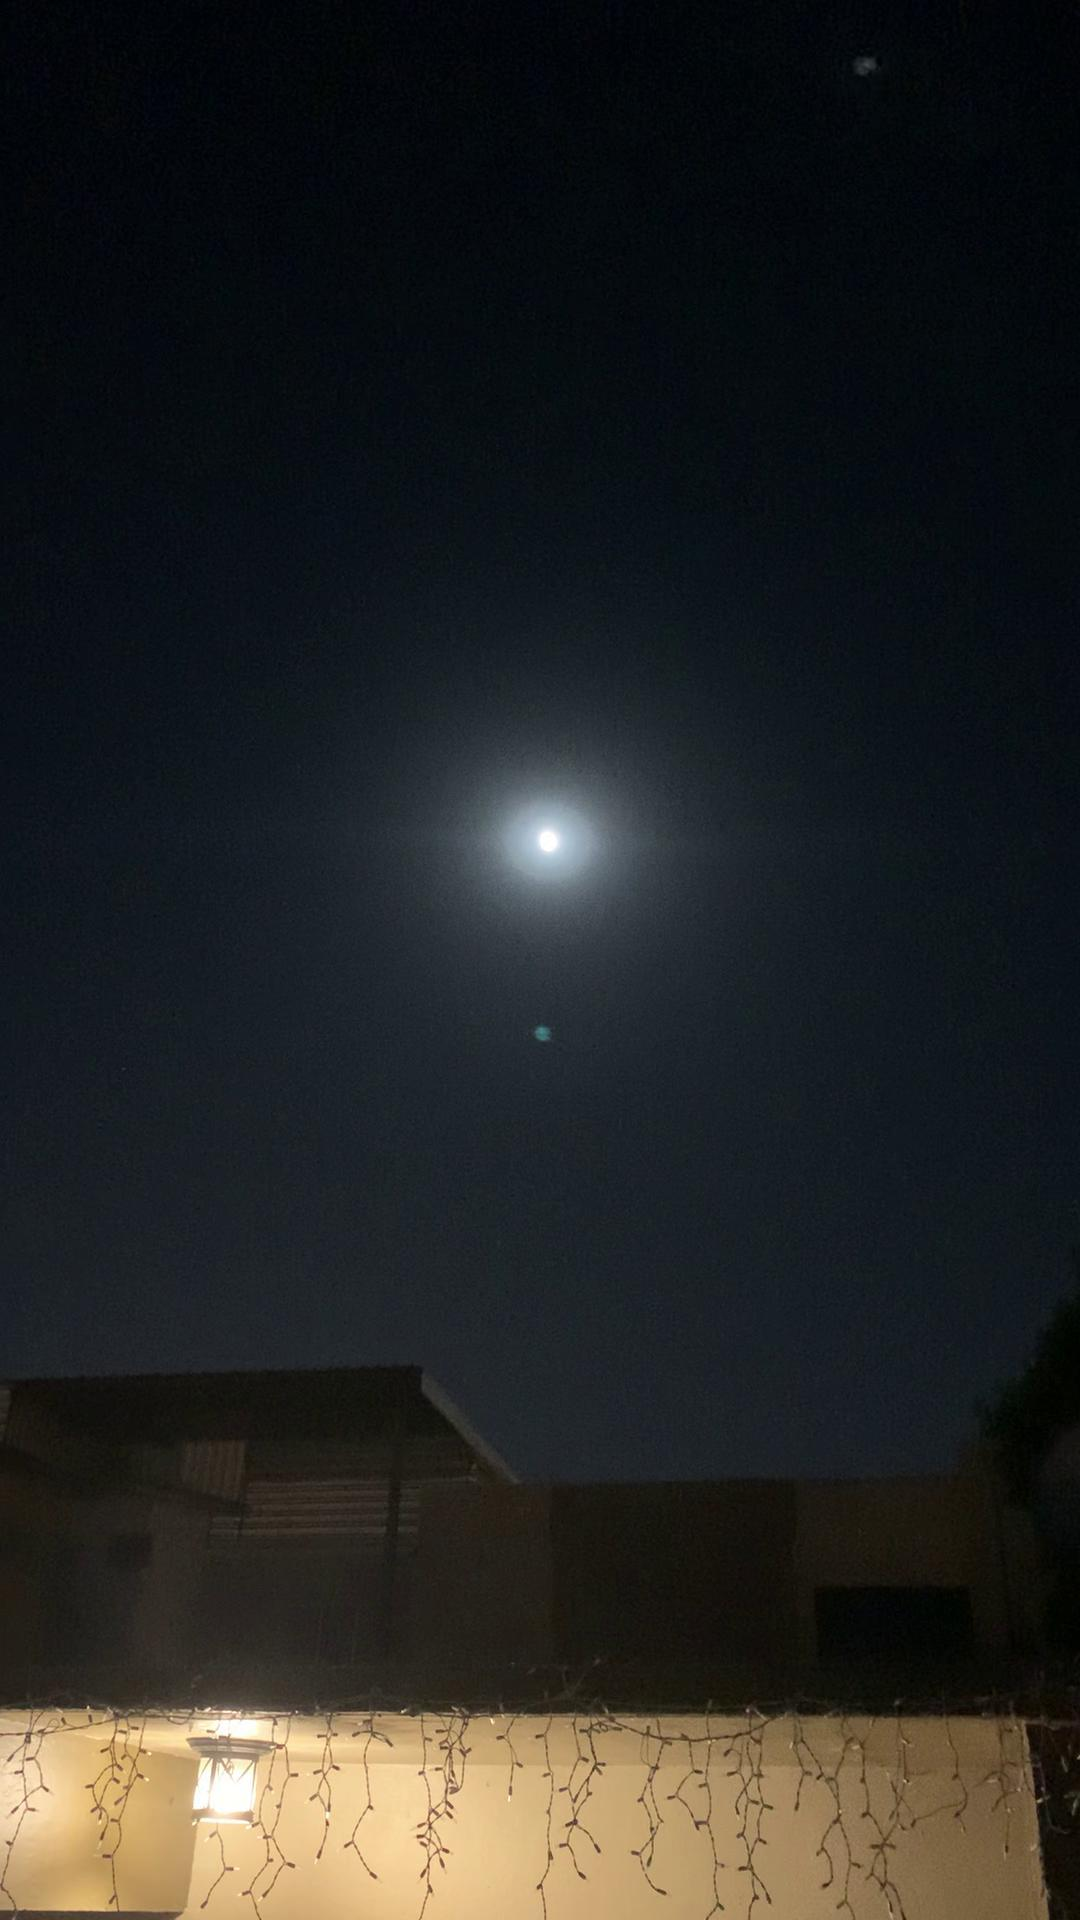moon: (509, 785, 596, 880)
